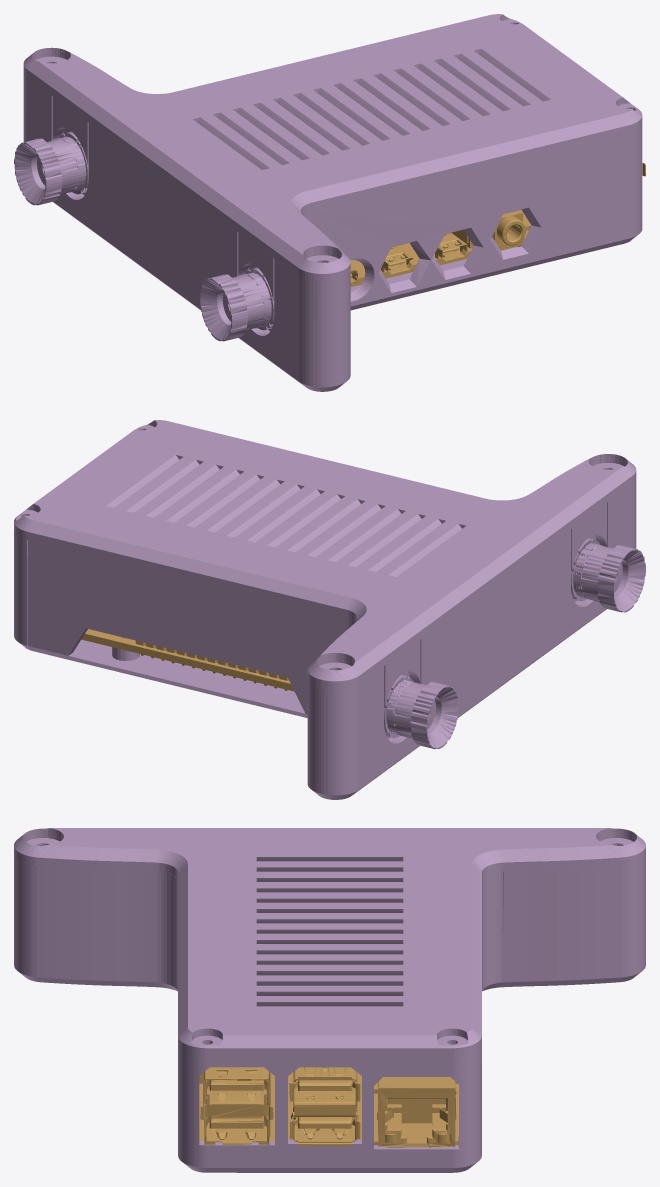
Rendered from roboeye-kit.glb.
The picture shows the model from 3 angles, top to bottom: view 1: azimuth 30°, elevation 25°; view 2: azimuth 150°, elevation 25°; view 3: azimuth 270°, elevation 25°; orthographic projection. The views are drawn at different scales.
Parts seen in each view (by area): view 1: Loose parts / upper_enclosure_v2 4, Loose parts / lower_enclosure_v2 2, Loose parts / b0264 1, Raspberry Pi 4 Model B / Female Micro HDMI Connector, RPi4Mo (×2), Raspberry Pi 4 Model B / PCB, RPi4ModelB-1 17, Raspberry Pi 4 Model B / Microphone Plug, RPi4ModelB-1 15; view 2: Loose parts / upper_enclosure_v2 4, Loose parts / lower_enclosure_v2 2, Loose parts / b0264 1, Raspberry Pi 4 Model B / PCB, RPi4ModelB-1 17, Raspberry Pi 4 Model B / 2.54 mm DUPONT MALE PIN HEADER, IO,; view 3: Loose parts / upper_enclosure_v2 4, Loose parts / lower_enclosure_v2 2, Raspberry Pi 4 Model B / Gigabit Ethernet Port, RPi4ModelB-1, Raspberry Pi 4 Model B / 2X USB3.0 PORTS, RPi4ModelB-2 4, Raspberry Pi 4 Model B / 2X USB2.0 PORTS, RPi4ModelB-1 3, Raspberry Pi 4 Model B / PCB, RPi4ModelB-1 17.
Boxes of the visible parts, <box> form: Loose parts / upper_enclosure_v2 4: <box>23,14,642,300</box>; Loose parts / lower_enclosure_v2 2: <box>23,73,642,391</box>; Loose parts / b0264 1: <box>14,128,274,341</box>; Raspberry Pi 4 Model B / Female Micro HDMI Connector, RPi4Mo (×2): <box>381,233,467,274</box>; Raspberry Pi 4 Model B / PCB, RPi4ModelB-1 17: <box>350,209,531,286</box>; Raspberry Pi 4 Model B / Microphone Plug, RPi4ModelB-1 15: <box>492,211,526,245</box>; Loose parts / upper_enclosure_v2 4: <box>14,420,636,713</box>; Loose parts / lower_enclosure_v2 2: <box>14,479,636,799</box>; Loose parts / b0264 1: <box>384,534,645,749</box>; Raspberry Pi 4 Model B / PCB, RPi4ModelB-1 17: <box>81,629,294,691</box>; Raspberry Pi 4 Model B / 2.54 mm DUPONT MALE PIN HEADER, IO,: <box>135,640,288,690</box>; Loose parts / upper_enclosure_v2 4: <box>14,828,645,1060</box>; Loose parts / lower_enclosure_v2 2: <box>14,856,645,1172</box>; Raspberry Pi 4 Model B / Gigabit Ethernet Port, RPi4ModelB-1: <box>377,1077,456,1147</box>; Raspberry Pi 4 Model B / 2X USB3.0 PORTS, RPi4ModelB-2 4: <box>289,1067,360,1146</box>; Raspberry Pi 4 Model B / 2X USB2.0 PORTS, RPi4ModelB-1 3: <box>200,1067,273,1147</box>; Raspberry Pi 4 Model B / PCB, RPi4ModelB-1 17: <box>199,1072,458,1145</box>.
Size of the model in its own units: 0.1149 by 0.031 by 0.129.
